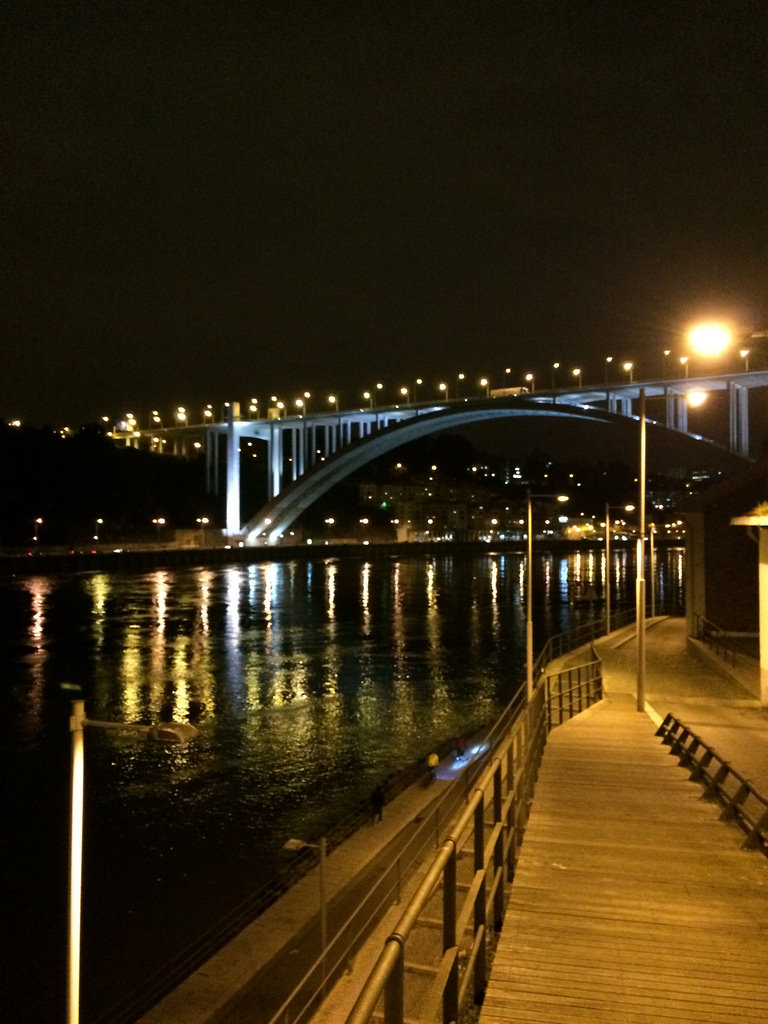arrabida: (108, 369, 767, 547)
